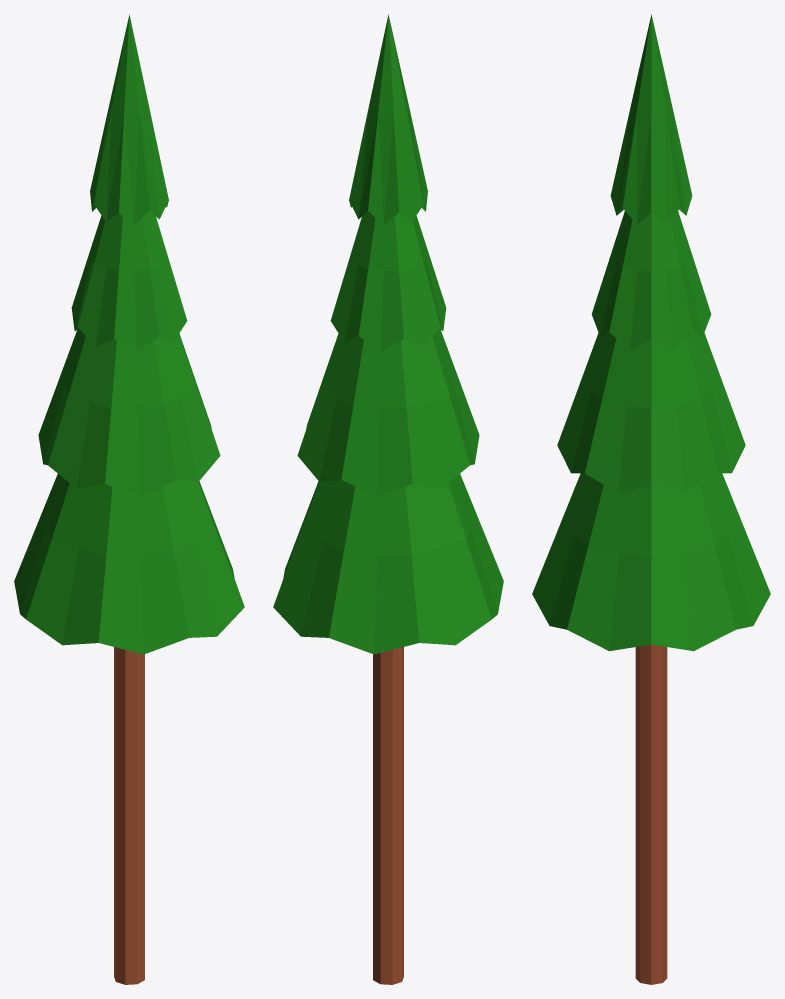
Rendered from Evergreen.fbx.
The picture shows the model from 3 angles, left to right: view 1: azimuth 30°, elevation 25°; view 2: azimuth 150°, elevation 25°; view 3: azimuth 270°, elevation 25°; orthographic projection.
Parts seen in each view (by area): view 1: Cylinder; view 2: Cylinder; view 3: Cylinder.
Part boxes in pixels (x1,y1,x2,y2): Cylinder: [14, 14, 244, 984]; Cylinder: [273, 14, 503, 984]; Cylinder: [532, 14, 770, 984].
Size of the model in its own units: 563 by 2510 by 563.
